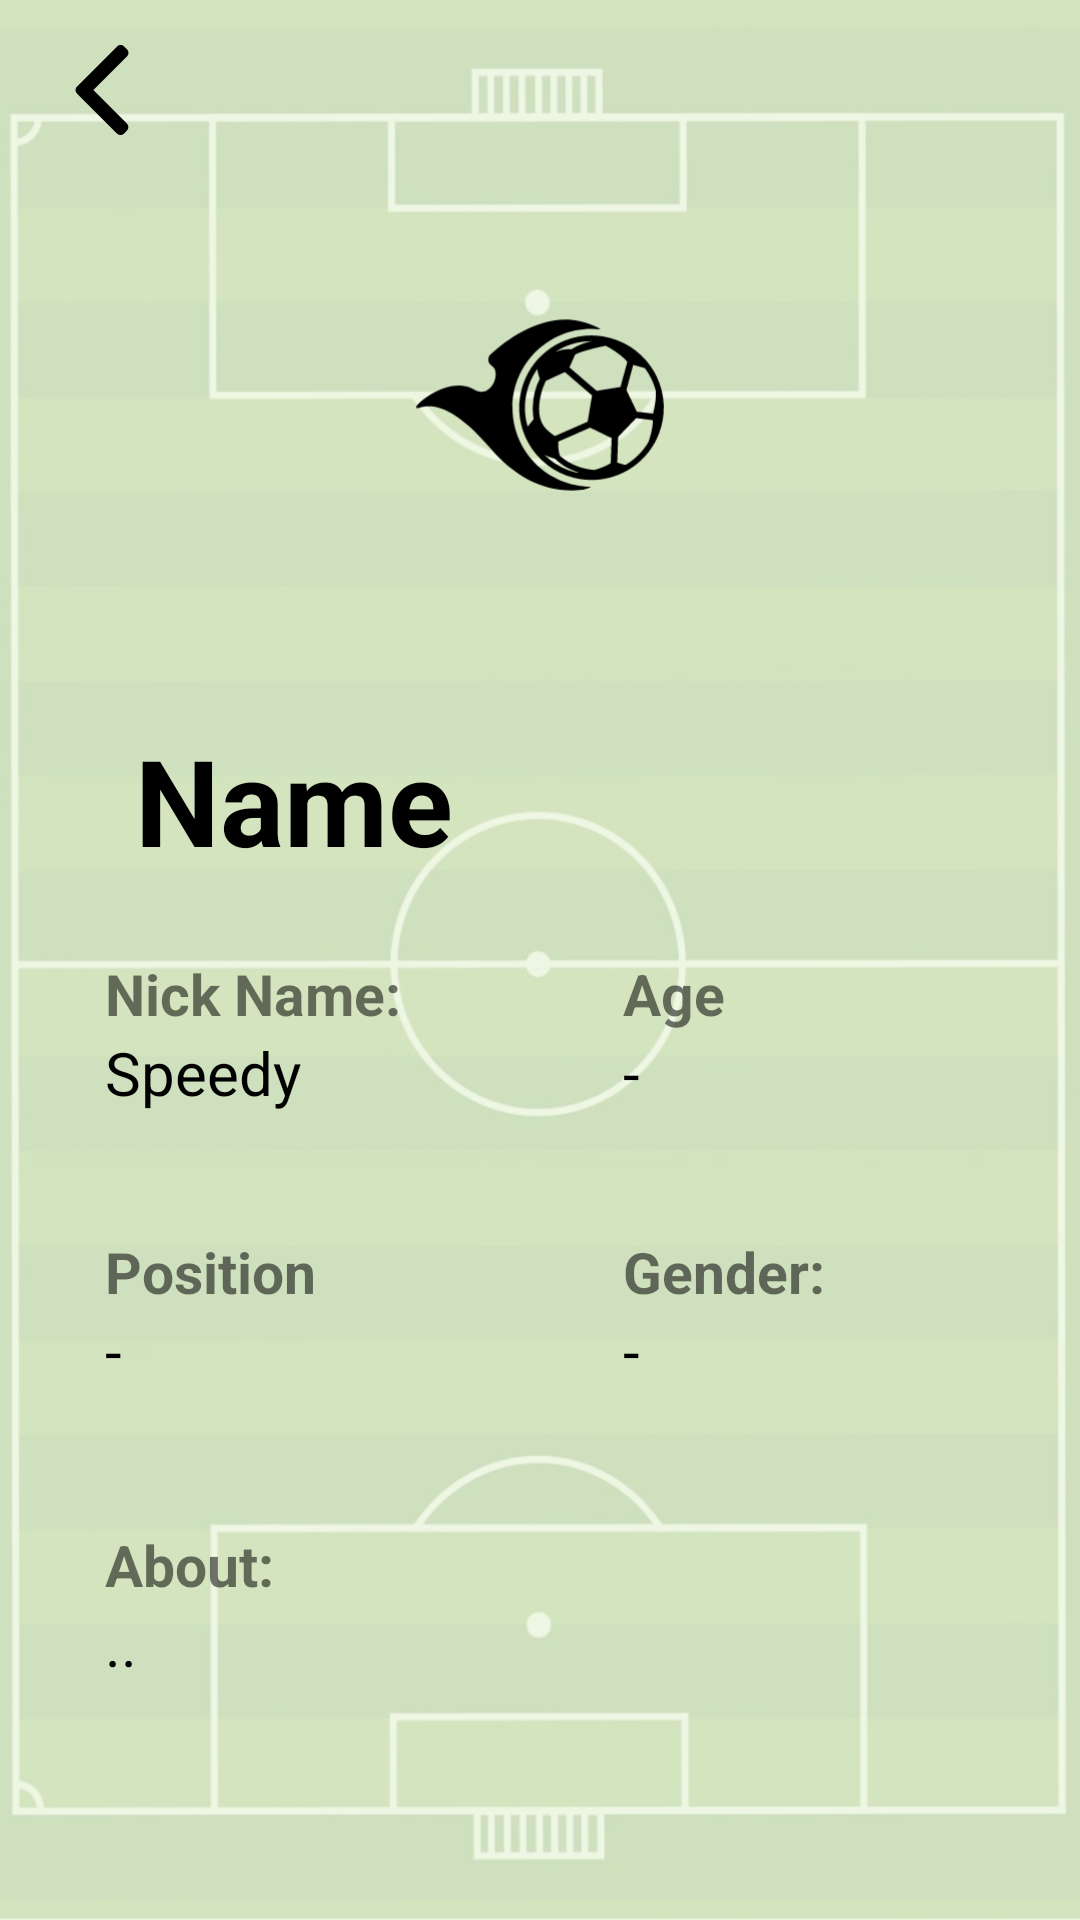

Icon bounding boxes for this 1080 x 1920 phone screenshot, format (left=x1, top=y1, right=x2, bottom=y2):
back arrow: (left=57, top=45, right=147, bottom=135)
